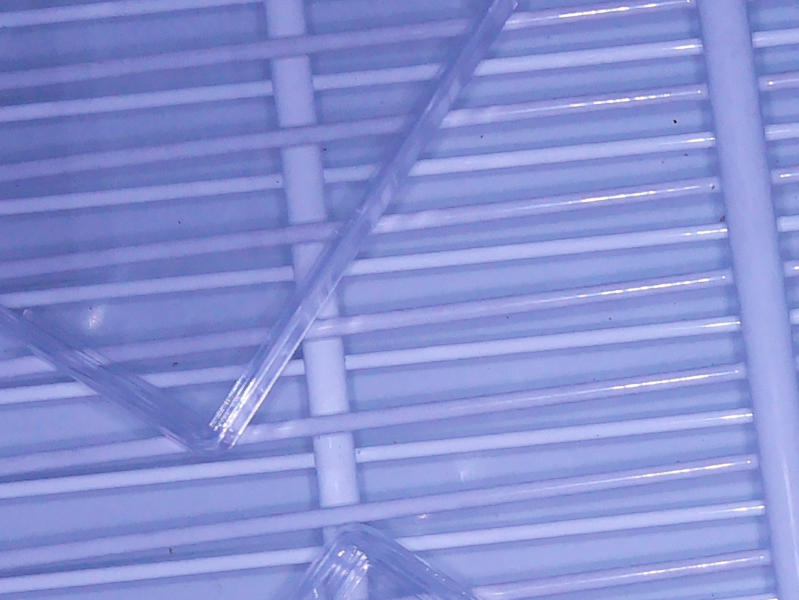plate: (1, 1, 520, 460), (294, 522, 479, 600)
